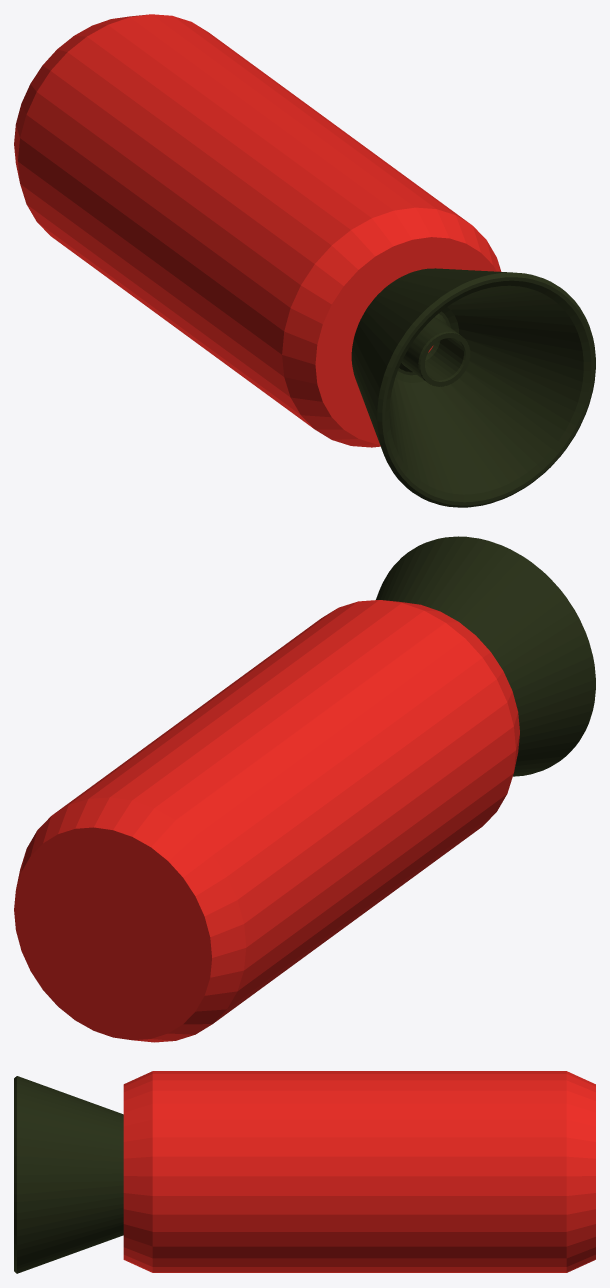
File: micromissile.fbx
3 renders of one model, top to bottom at view 1: azimuth 30°, elevation 25°; view 2: azimuth 150°, elevation 25°; view 3: azimuth 270°, elevation 25°, orthographic. The views are drawn at different scales.
Parts seen in each view (by area): view 1: 円柱; view 2: 円柱; view 3: 円柱.
Part boxes in pixels (bbox=[...]): 円柱: bbox=[14, 14, 595, 507]; 円柱: bbox=[14, 536, 595, 1042]; 円柱: bbox=[14, 1071, 595, 1273].
Size of the model in its own units: 42.61 by 41.89 by 121.
